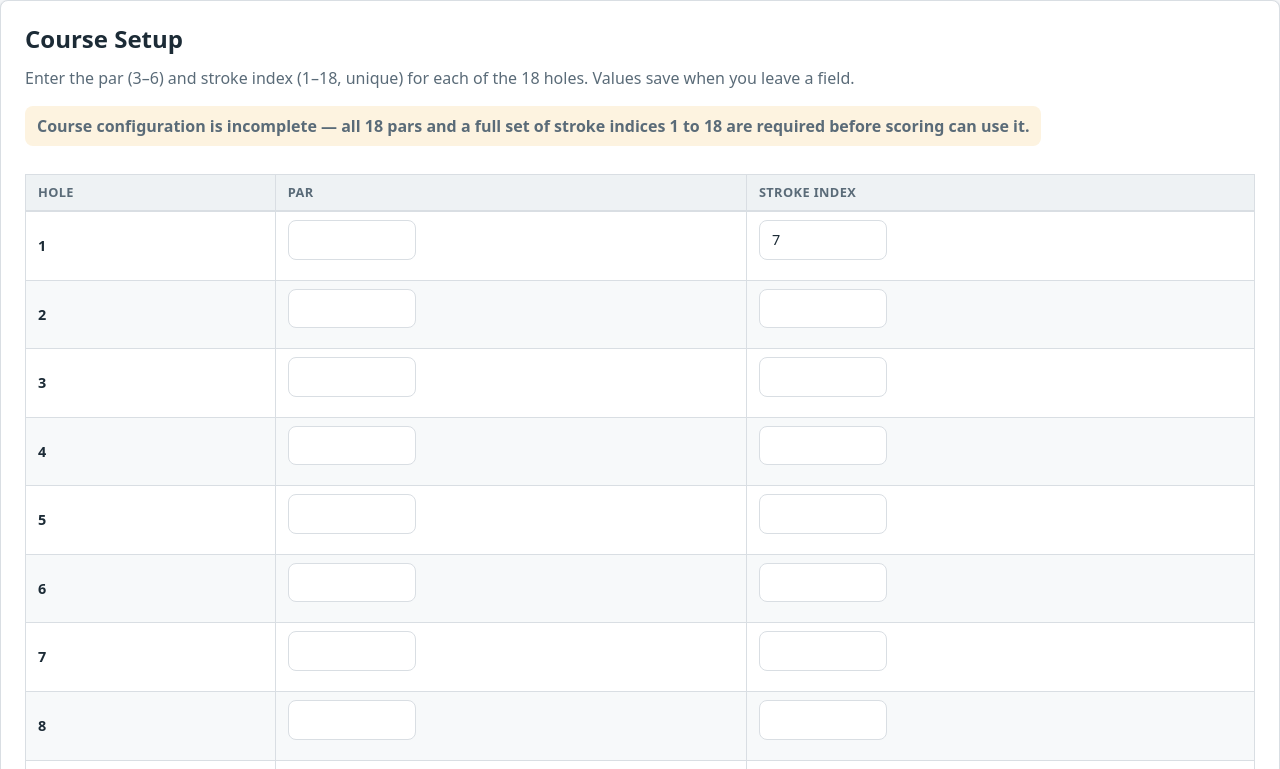
Test: CourseSetupScreen › rejects a duplicate stroke index, identifies the conflicting hole, and retains the prior value (1.4)
Type "7" into the number field named "Stroke index for hole 2" at {"x": 823, "y": 308}, box x1=759 y1=289 x2=887 y2=328
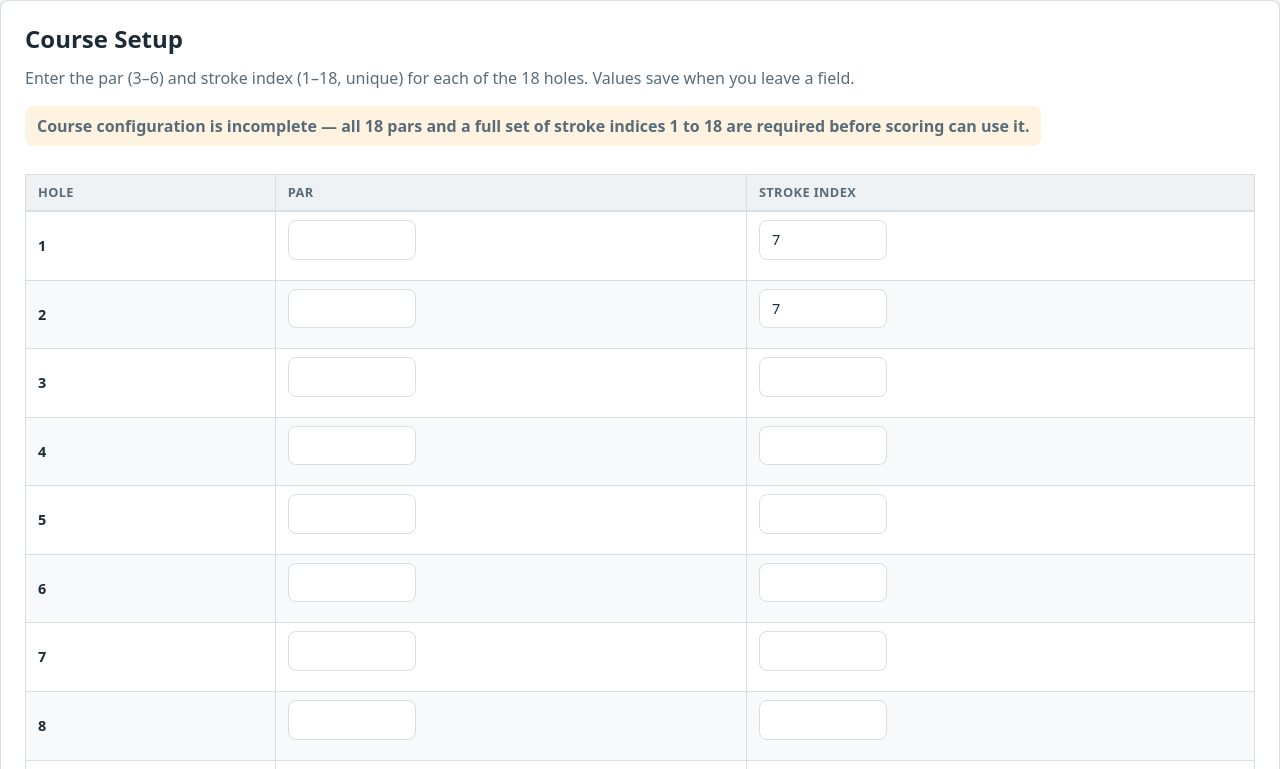
Leave the number field named "Stroke index for hole 2", box x1=759 y1=289 x2=887 y2=328
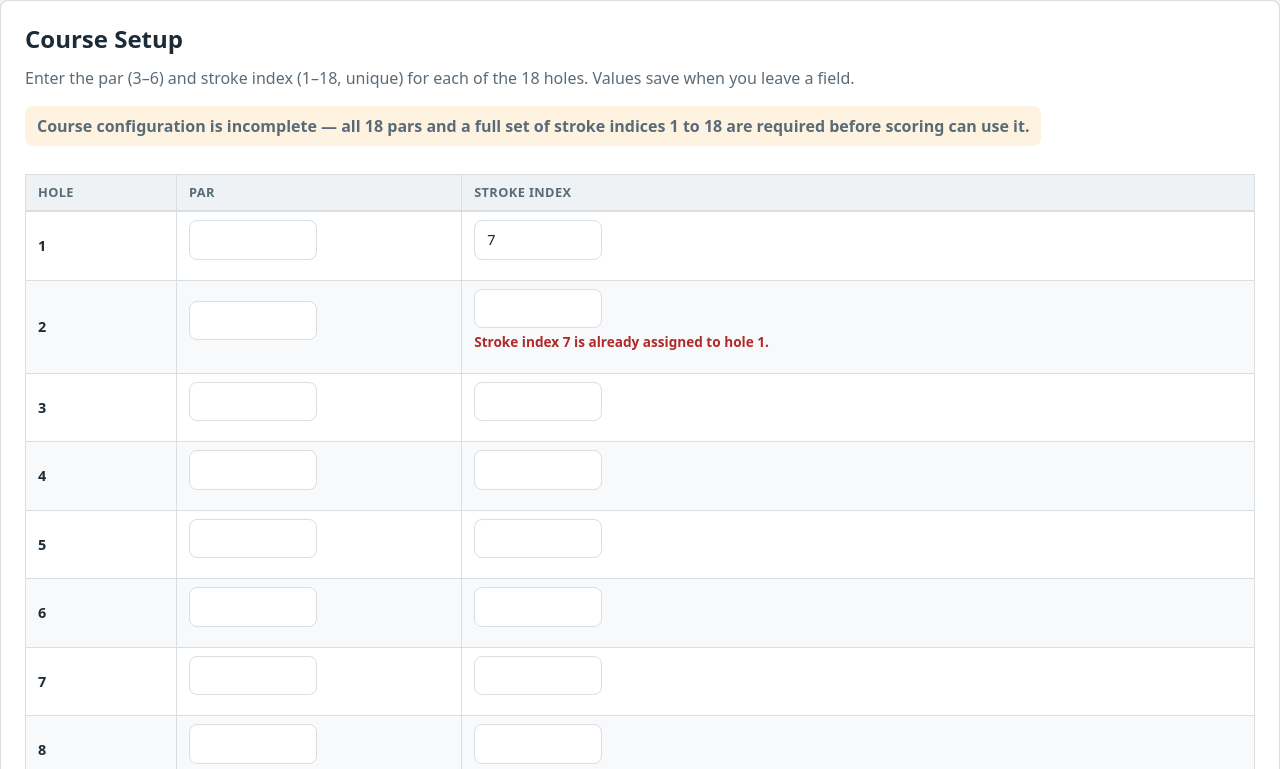
Expected: the number field named "Stroke index for hole 2" is empty, x1=474 y1=289 x2=602 y2=328
Expected: the text "Stroke index 7 is already assigned to hole 1." is shown, x1=474 y1=332 x2=769 y2=351
